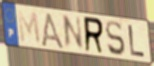A: (39, 11, 66, 51)
L: (127, 24, 147, 59)
M: (17, 9, 43, 47)
N: (62, 14, 85, 51)
R: (83, 15, 105, 56)
S: (105, 20, 127, 58)
